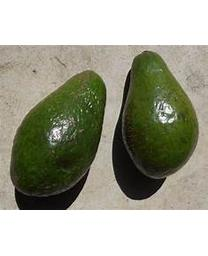avocado: (9, 69, 107, 197), (121, 51, 199, 179)
